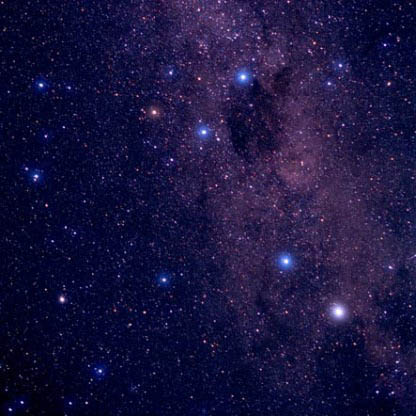Southern Cross: (191, 118, 218, 148), (138, 95, 163, 125), (234, 65, 261, 90), (163, 60, 180, 83)
